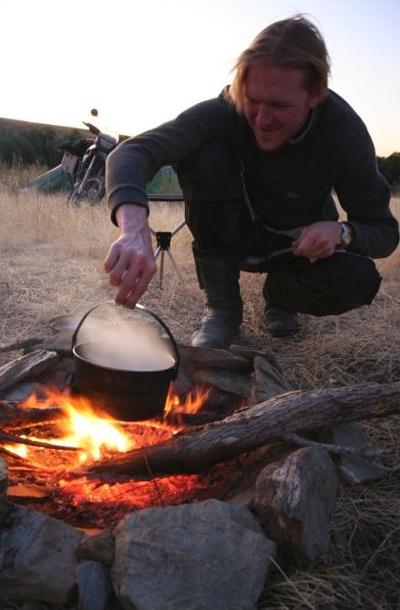person: (104, 19, 400, 351)
